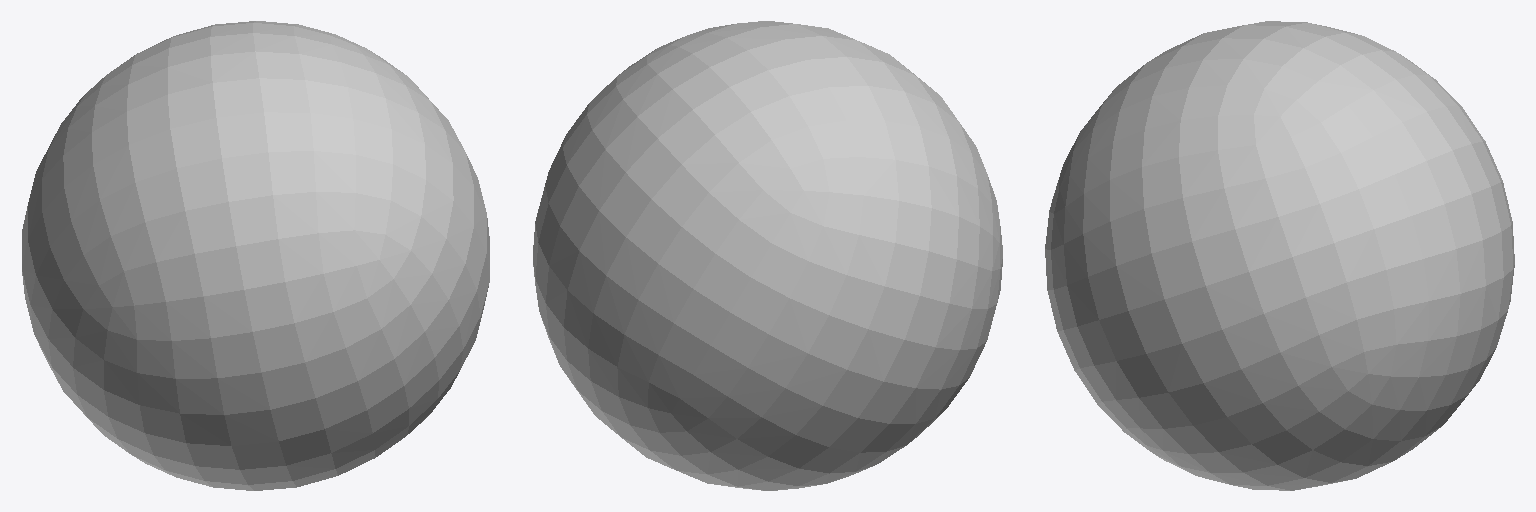
File: mars.obj
3 views of the same model, side by side, from view 1: azimuth 30°, elevation 25°; view 2: azimuth 150°, elevation 25°; view 3: azimuth 270°, elevation 25° (orthographic).
Visible parts, largest first — view 1: Mars_Cube.002; view 2: Mars_Cube.002; view 3: Mars_Cube.002.
Part boxes in pixels (x1,y1,x2,y2): Mars_Cube.002: (22,21,489,490); Mars_Cube.002: (533,21,1002,490); Mars_Cube.002: (1045,21,1514,490).
Size of the model in its own units: 6.78 by 6.76 by 6.76.